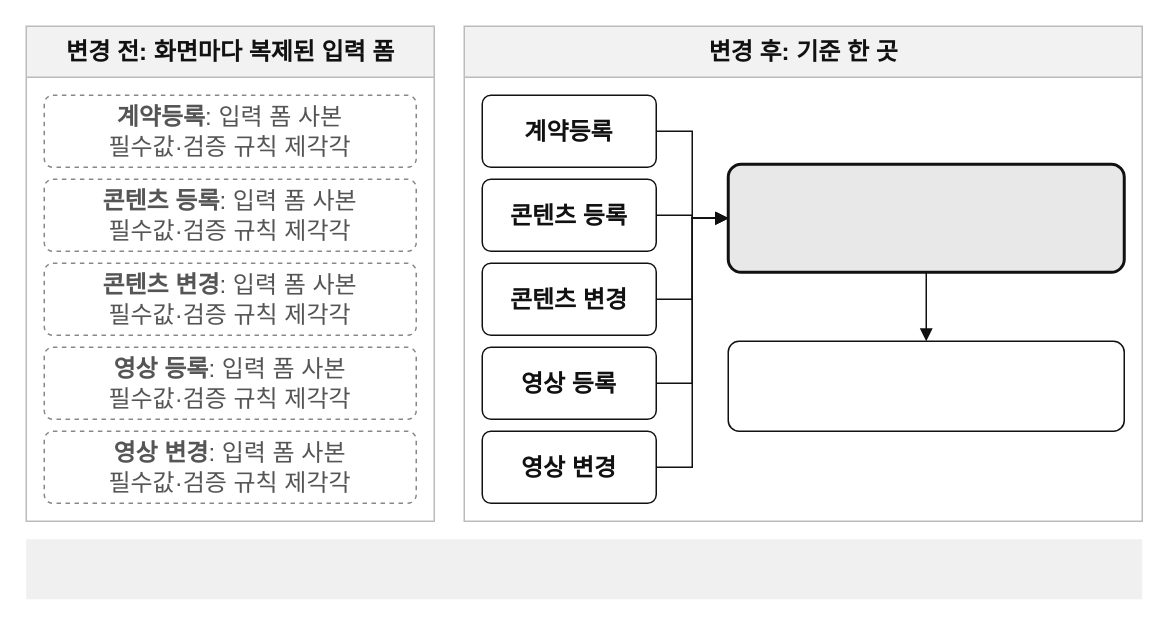
This 1169x626 diagram has some shape labels left out. The centre of each missing label's shape, as x and y in pixels:
공통 콘텐츠 입력 컴포넌트 필수값·검증 규칙을 한곳에서 정의: the point at 925,217
그룹콘텐츠 중복 검사 공통 composable: the point at 925,385
콘텐츠 입력 폼의 기준: 다섯 곳 → 한 곳: the point at 584,568
